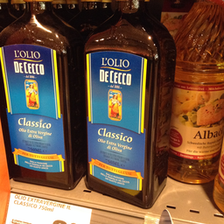oil: (84, 2, 177, 209), (1, 1, 85, 190)
